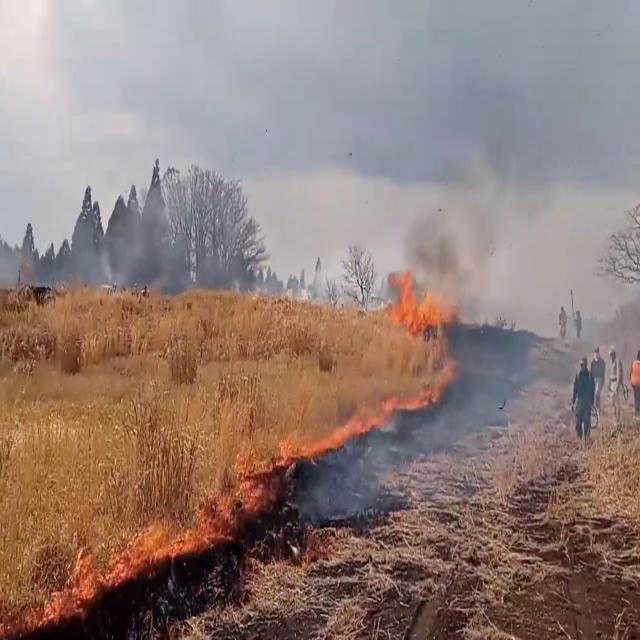Fire: (384, 261, 458, 349)
